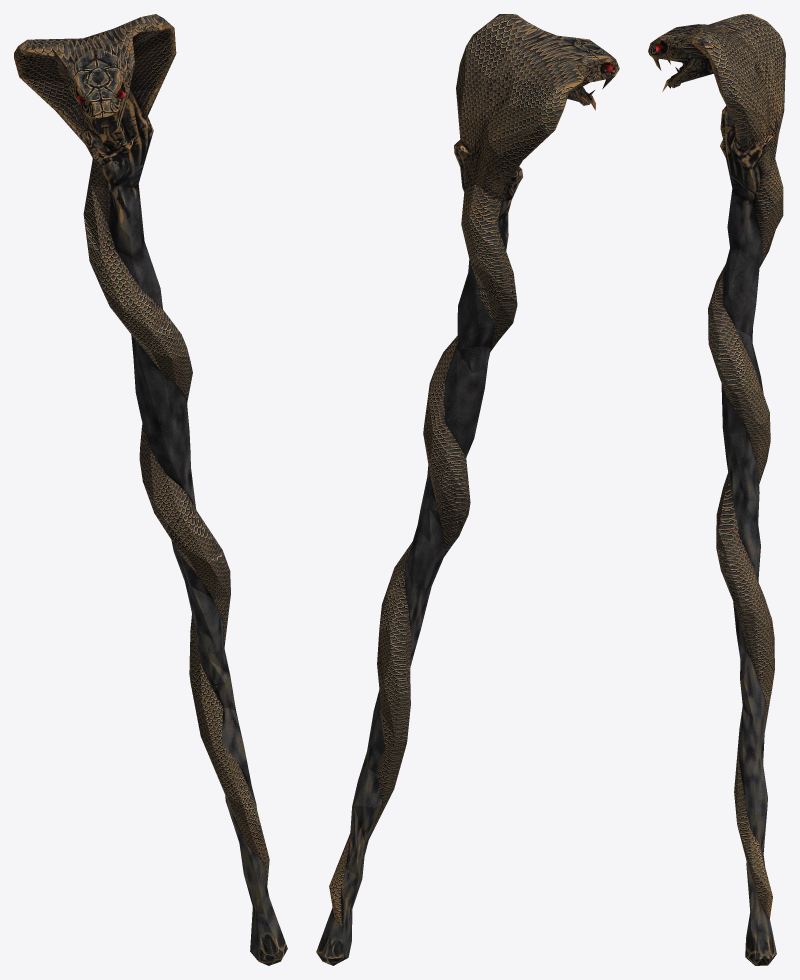
File: ITMW_2H_SERPENTSTAFF.glb
3 views of the same model, side by side, from view 1: azimuth 30°, elevation 25°; view 2: azimuth 150°, elevation 25°; view 3: azimuth 270°, elevation 25° (orthographic). The views are drawn at different scales.
Parts seen in each view (by area): view 1: ITMW_2H_SERPENTSTAFF; view 2: ITMW_2H_SERPENTSTAFF; view 3: ITMW_2H_SERPENTSTAFF.
Boxes of the visible parts, <box> form: ITMW_2H_SERPENTSTAFF: <box>14,14,287,965</box>; ITMW_2H_SERPENTSTAFF: <box>316,14,619,965</box>; ITMW_2H_SERPENTSTAFF: <box>648,14,785,965</box>.
Size of the model in its own units: 0.5495 by 1.96 by 0.2834.
Materials: 1 (1 with a texture image).
